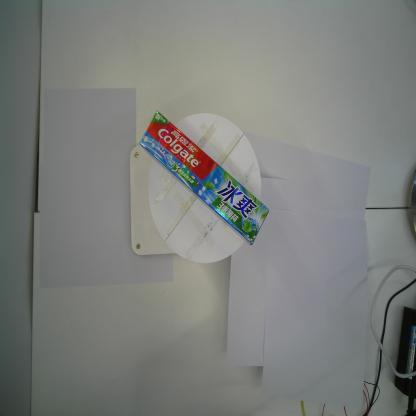Personal Hygiene: (139, 110, 269, 245)
